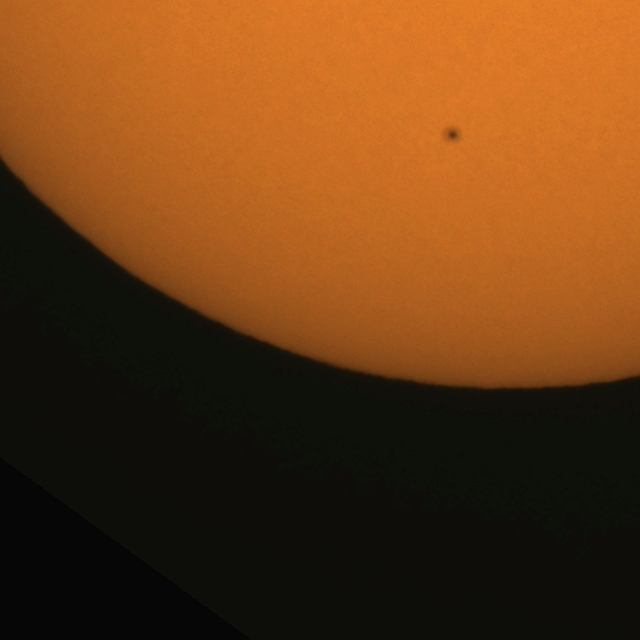sunspot: (442, 125, 462, 144)
